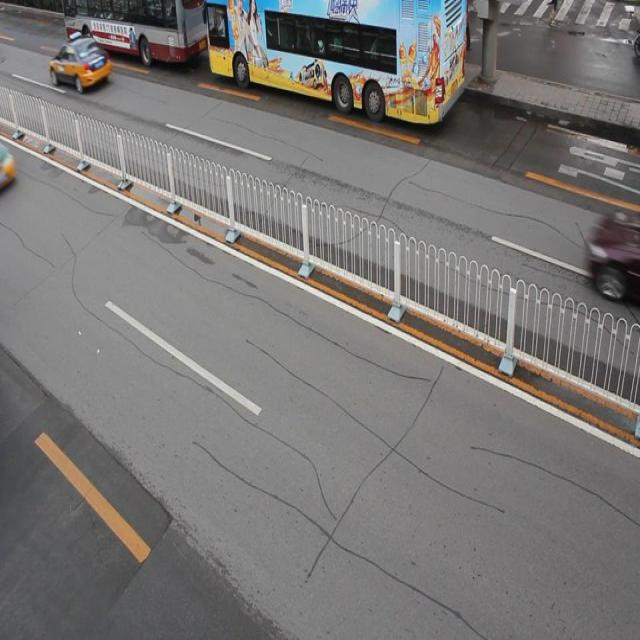car: (51, 36, 112, 92)
van: (207, 1, 466, 123), (64, 1, 208, 63)
